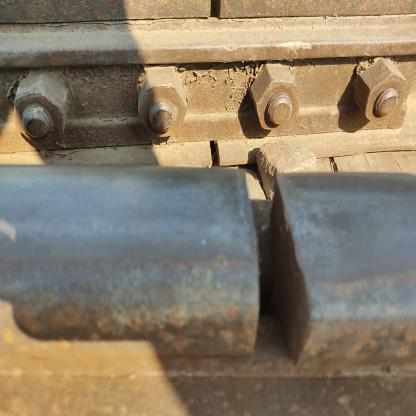Non Defective 3: (3, 2, 415, 170)
